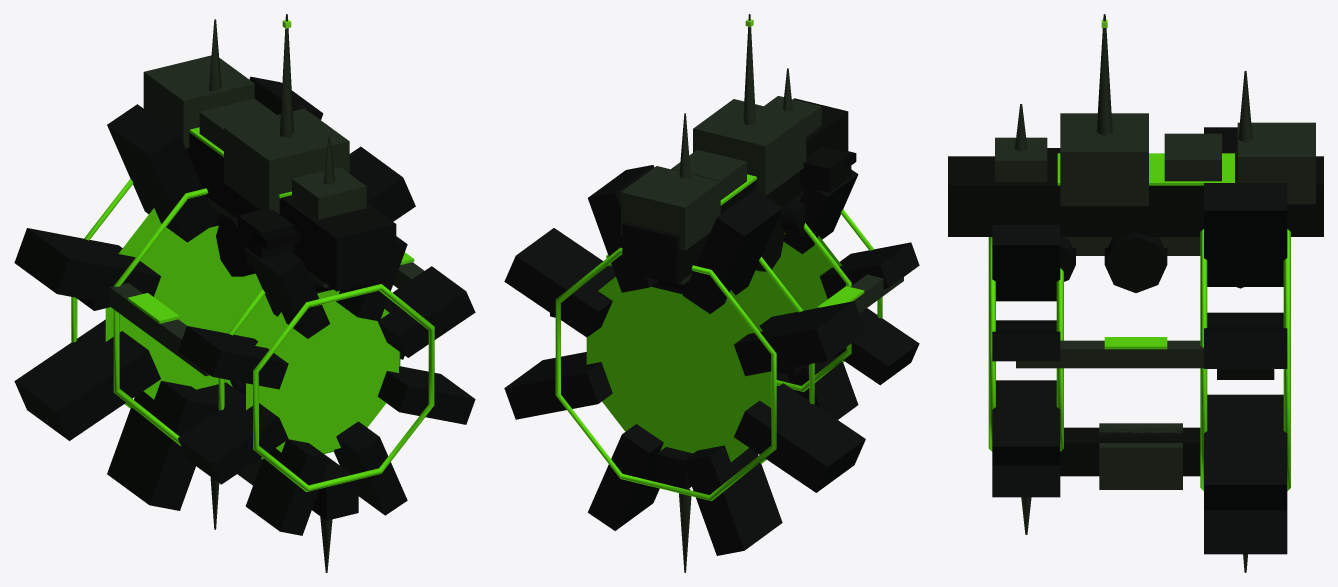
The model's file is Stargate.obj.
3 views of the same model, side by side, from view 1: azimuth 30°, elevation 25°; view 2: azimuth 150°, elevation 25°; view 3: azimuth 270°, elevation 25° (orthographic). The views are drawn at different scales.
Parts seen in each view (by area): view 1: stargate_ring_aft_aperture, stargate_ring_fore_aperture, stargate_spine, stargate_ring_fore_seg_5, stargate_machinery_2, stargate_ring_fore_seg_4, stargate_ring_fore_seg_7, stargate_ring_fore_seg_6, stargate_machinery_0, stargate_ring_aft_seg_5, stargate_ring_aft_seg_4, stargate_ring_aft_seg_1 (+19 smaller); view 2: stargate_ring_fore_aperture, stargate_ring_fore_seg_5, stargate_ring_fore_seg_4, stargate_ring_fore_seg_1, stargate_machinery_2, stargate_spine, stargate_ring_fore_seg_7, stargate_ring_fore_seg_6, stargate_machinery_0, stargate_ring_fore_rim, stargate_ring_fore_seg_2, stargate_ring_fore_seg_3 (+16 smaller); view 3: stargate_spine, stargate_ring_fore_seg_2, stargate_ring_fore_seg_0, stargate_machinery_2, stargate_ring_aft_seg_2, stargate_machinery_0, stargate_ring_aft_seg_0, stargate_keel_pod, stargate_conduit, stargate_keel, stargate_ring_fore_seg_3, stargate_ring_fore_seg_1 (+18 smaller).
Part boxes in pixels (x1,y1,x2,y2): stargate_ring_aft_aperture: (246, 289, 398, 452); stargate_ring_fore_aperture: (105, 208, 277, 399); stargate_spine: (186, 131, 396, 291); stargate_ring_fore_seg_5: (14, 319, 160, 440); stargate_machinery_2: (224, 108, 349, 213); stargate_ring_fore_seg_4: (107, 381, 217, 510); stargate_ring_fore_seg_7: (107, 104, 217, 242); stargate_ring_fore_seg_6: (14, 228, 160, 303); stargate_machinery_0: (143, 55, 254, 148); stargate_ring_aft_seg_5: (178, 393, 288, 484); stargate_ring_aft_seg_4: (245, 439, 329, 535); stargate_ring_aft_seg_1: (377, 266, 475, 357); stargate_ring_fore_aperture: (586, 276, 771, 461); stargate_ring_fore_seg_5: (734, 383, 865, 492); stargate_ring_fore_seg_4: (683, 445, 782, 555); stargate_ring_fore_seg_1: (504, 228, 615, 337); stargate_machinery_2: (693, 99, 806, 195); stargate_spine: (622, 98, 848, 284); stargate_ring_fore_seg_7: (683, 190, 782, 313); stargate_ring_fore_seg_6: (734, 301, 865, 376); stargate_machinery_0: (621, 166, 720, 250); stargate_ring_fore_rim: (555, 247, 814, 500); stargate_ring_fore_seg_2: (504, 352, 612, 419); stargate_ring_fore_seg_3: (588, 424, 663, 530); stargate_spine: (948, 156, 1323, 236); stargate_ring_fore_seg_2: (1204, 402, 1287, 510); stargate_ring_fore_seg_0: (1204, 183, 1287, 286); stargate_machinery_2: (1060, 113, 1148, 206); stargate_ring_aft_seg_2: (992, 385, 1060, 465); stargate_machinery_0: (1237, 122, 1315, 204); stargate_ring_aft_seg_0: (992, 225, 1060, 301); stargate_keel_pod: (1099, 423, 1182, 489); stargate_conduit: (1016, 248, 1203, 368); stargate_keel: (1060, 427, 1200, 476); stargate_ring_fore_seg_3: (1204, 510, 1287, 554); stargate_ring_fore_seg_1: (1204, 326, 1287, 368).
Size of the model in its own units: 263 by 397 by 243.
